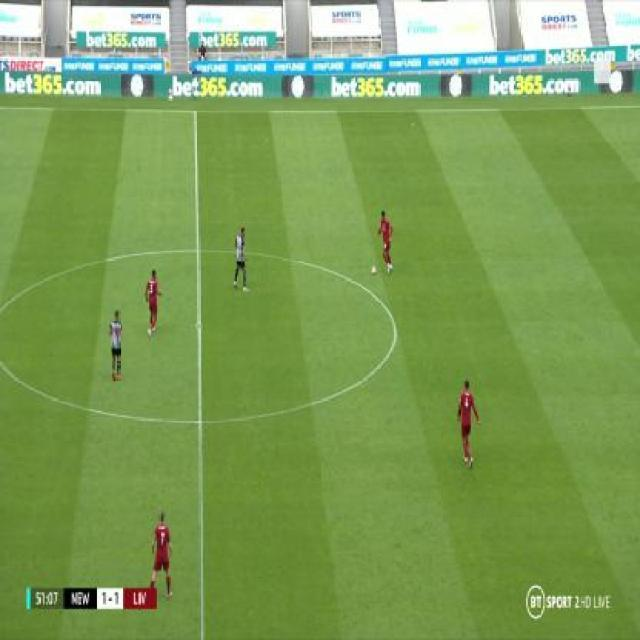ball: (371, 263, 377, 276)
player: (147, 509, 175, 603), (455, 377, 480, 470), (106, 307, 126, 383), (373, 209, 395, 277), (230, 222, 250, 293), (143, 268, 163, 337)
